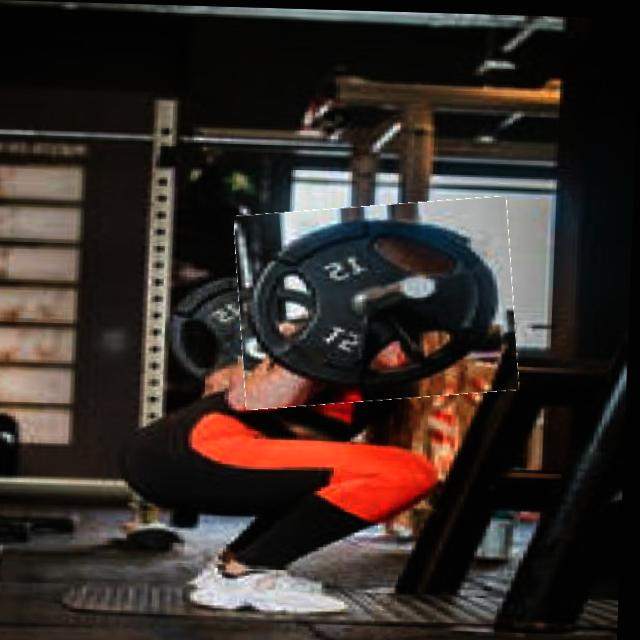barbell: (236, 194, 524, 409)
